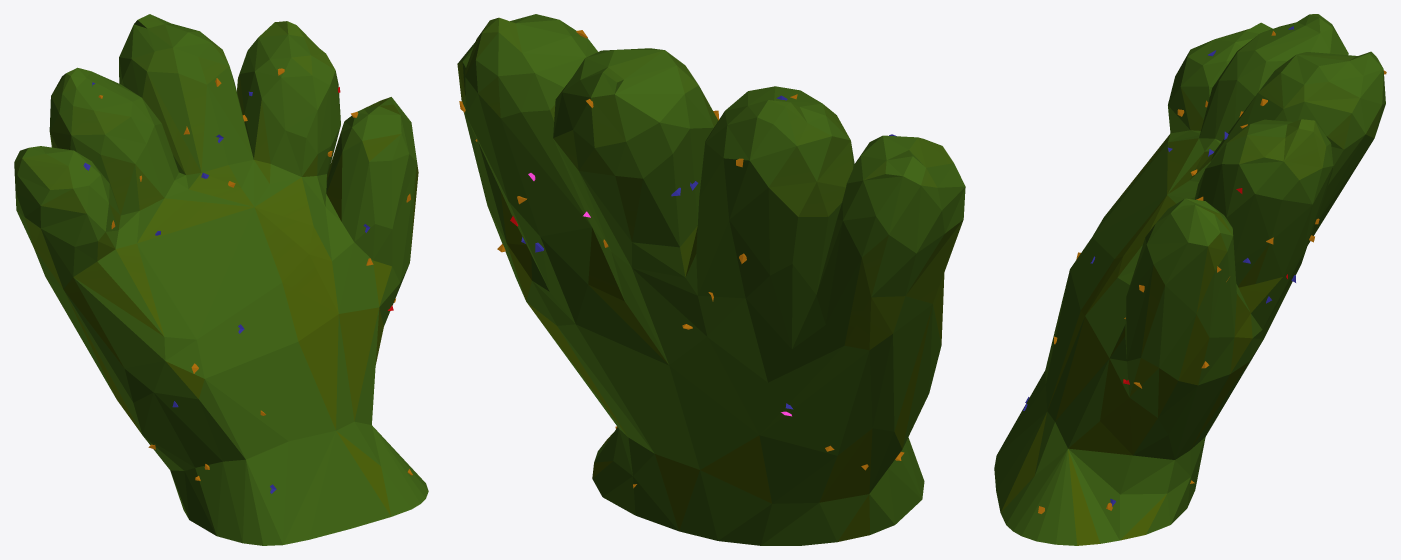
Rendered from HWN20_HandBush.glb.
The picture shows the model from 3 angles, left to right: view 1: azimuth 30°, elevation 25°; view 2: azimuth 150°, elevation 25°; view 3: azimuth 270°, elevation 25°; orthographic projection. The views are drawn at different scales.
Parts seen in each view (by area): view 1: HWN20_HandBush; view 2: HWN20_HandBush; view 3: HWN20_HandBush.
Part boxes in pixels (x1=…): HWN20_HandBush: x1=14, y1=14, x2=428, y2=545; HWN20_HandBush: x1=457, y1=14, x2=965, y2=545; HWN20_HandBush: x1=994, y1=14, x2=1386, y2=545.
Size of what is drawn, in the model's own units: 6.23 by 6.38 by 5.36.
Materials: 2 (2 with a texture image).
